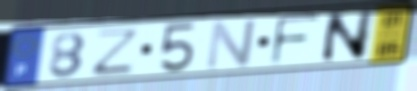5: (155, 21, 201, 74)
8: (48, 31, 88, 79)
F: (268, 13, 323, 67)
N: (318, 8, 377, 65), (202, 17, 260, 73)
Z: (87, 26, 144, 77)
